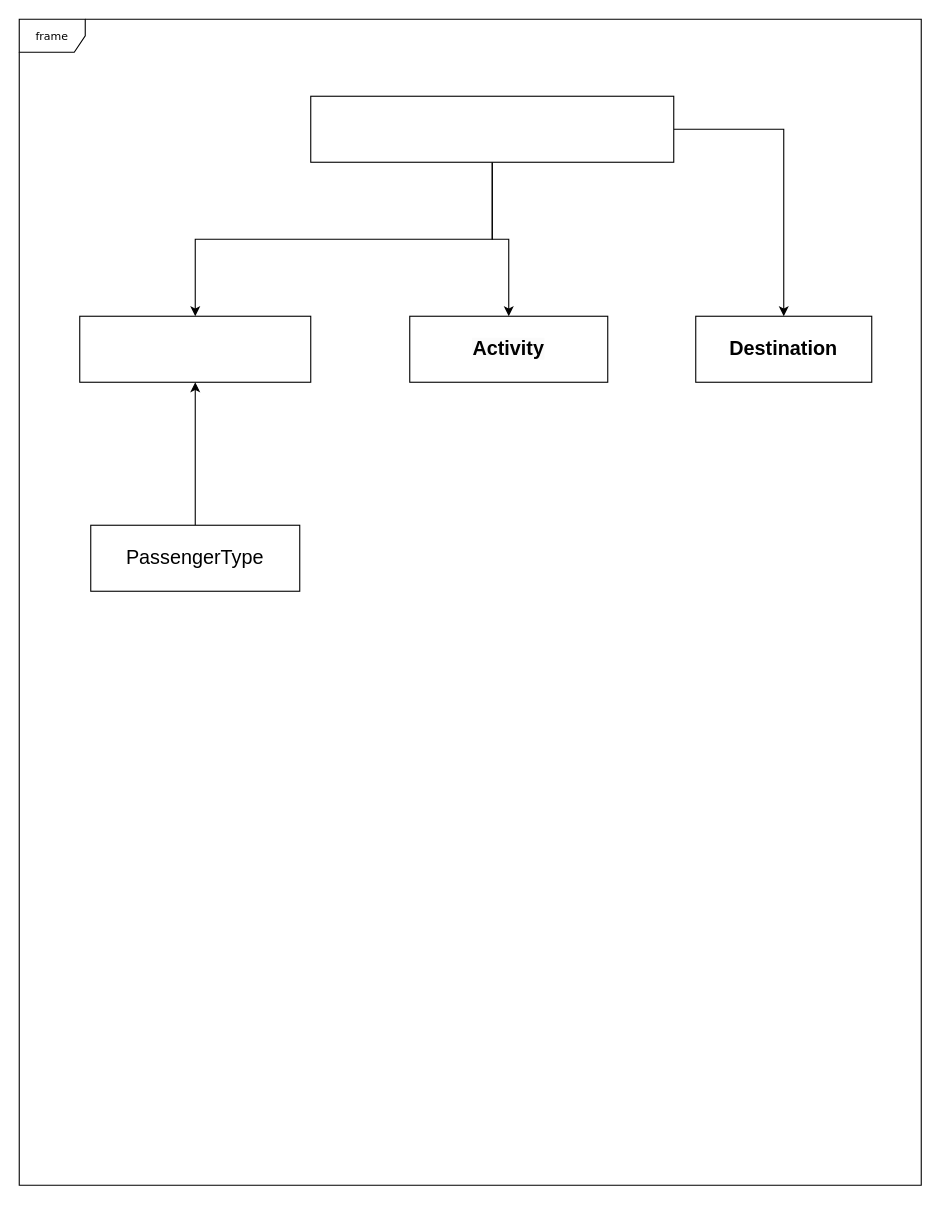
The diagram is 941 pixels wide and 1205 high, and some of its shapes have lost their labels. Here are the shapes that lost their labels. From the top down, the centre of each, then its label:
At [492,128]: "Travel Package Class".
At [195,348]: "Passenger".
